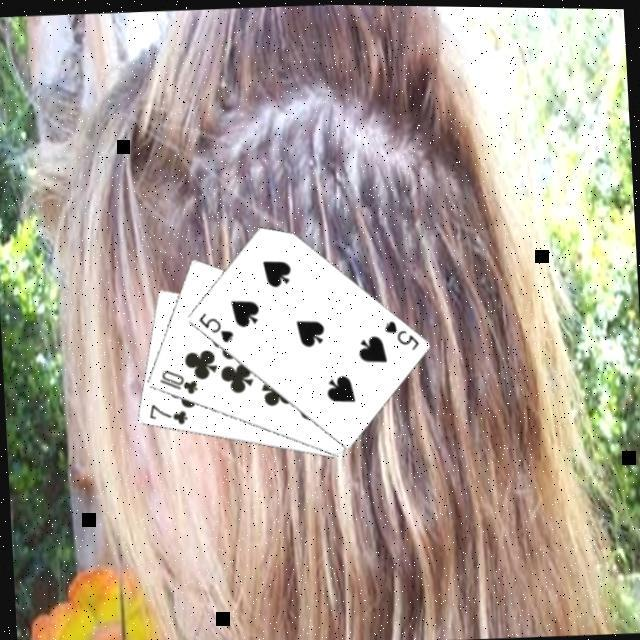10C: (153, 363, 200, 397)
5S: (192, 306, 235, 344), (378, 314, 420, 352)
7C: (143, 398, 189, 427)
